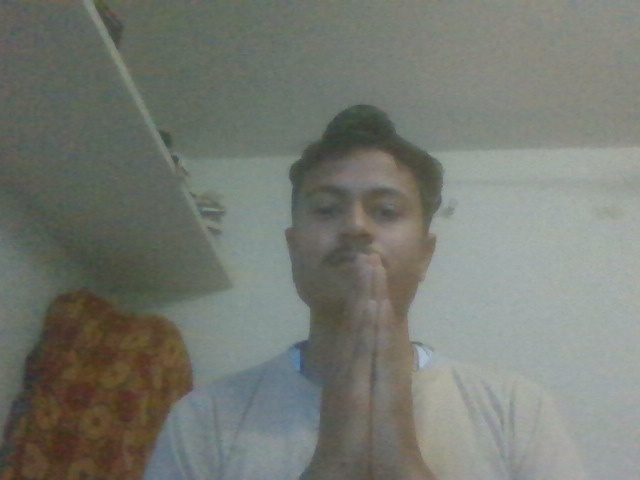Namaste: (295, 247, 453, 480)
